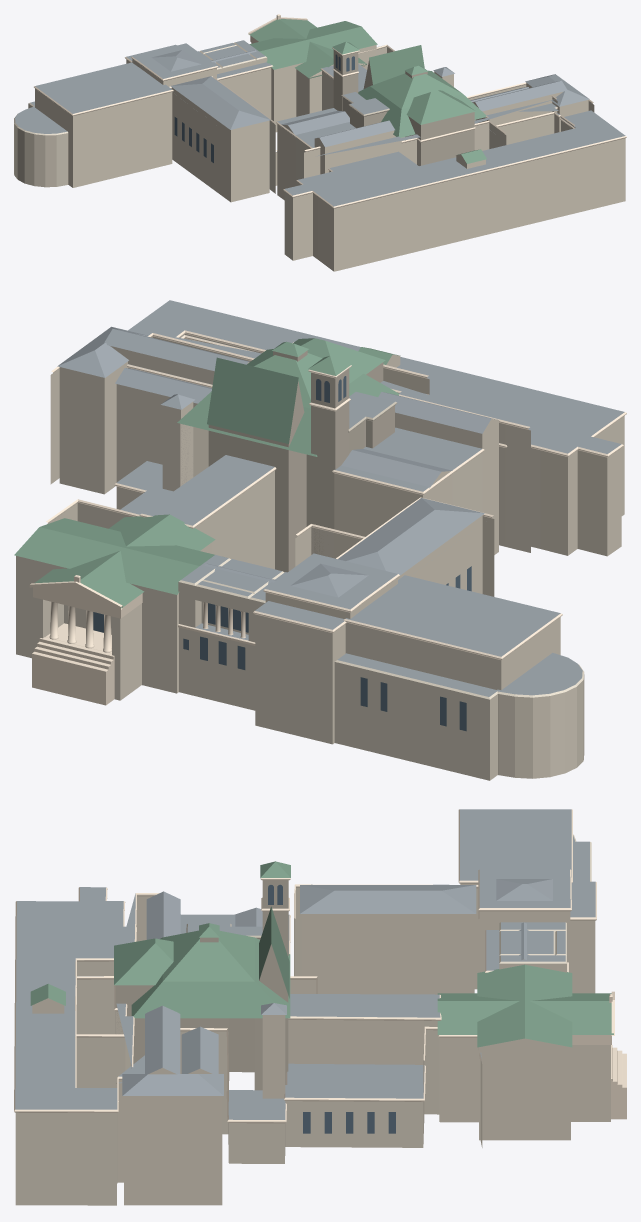
File: cin-art-museum.glb
3 views of the same model, one above another, from view 1: azimuth 30°, elevation 25°; view 2: azimuth 150°, elevation 25°; view 3: azimuth 270°, elevation 25° (orthographic). The views are drawn at different scales.
Parts seen in each view (by area): view 1: Cincinnati Art Museum; view 2: Cincinnati Art Museum; view 3: Cincinnati Art Museum.
Boxes of the visible parts, bbox=[...] form: Cincinnati Art Museum: bbox=[14, 14, 626, 271]; Cincinnati Art Museum: bbox=[14, 300, 626, 780]; Cincinnati Art Museum: bbox=[14, 809, 626, 1205].
Size of the model in its own units: 139 by 42.8 by 115.
